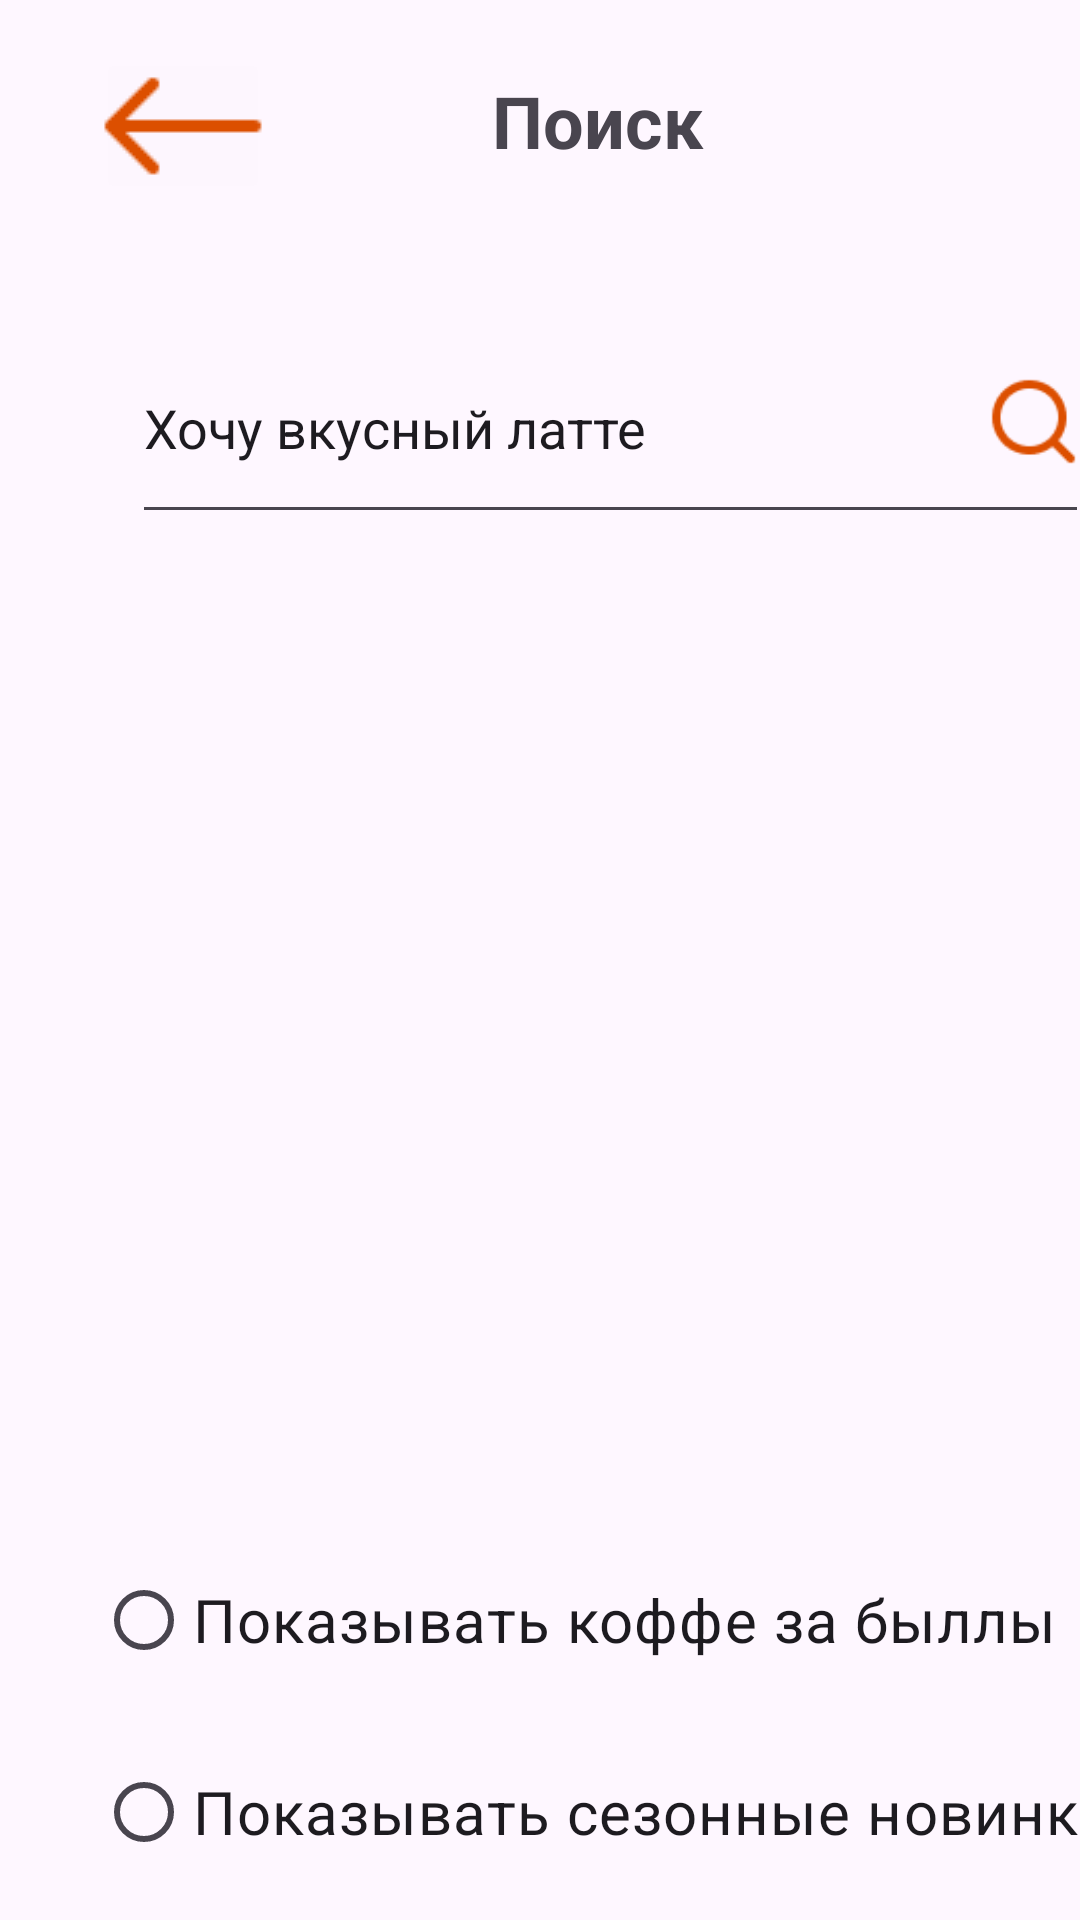

Icon click points for this 1080 × 1920 phone screenshot, format (x=x, y=y):
arrow: (x=183, y=126)
